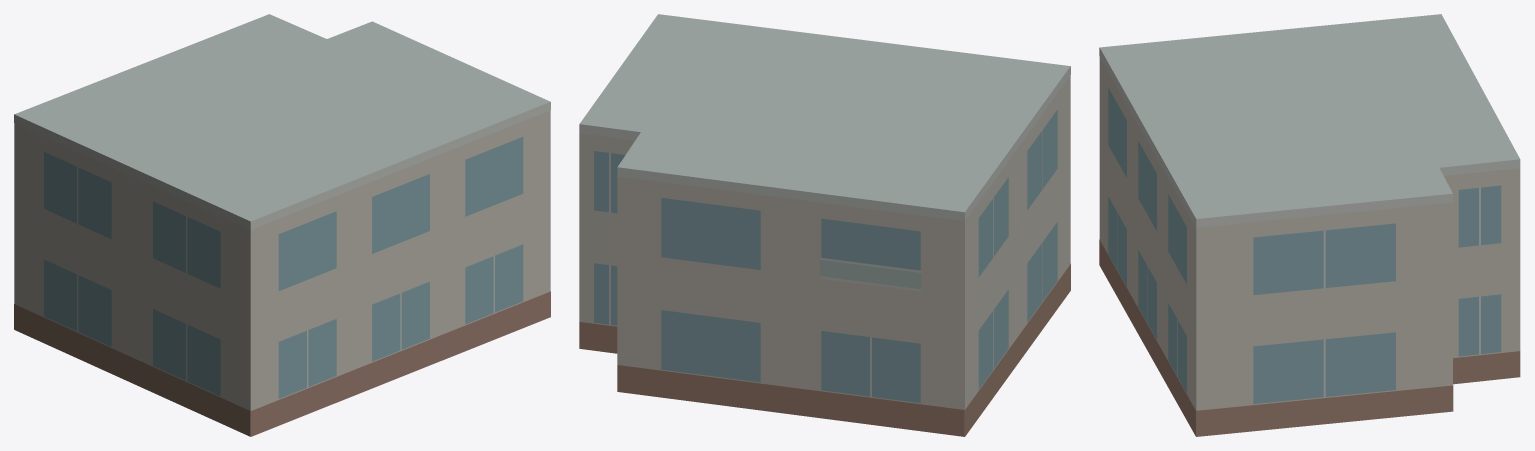
File: survey-upis-32509872.glb
3 views of the same model, side by side, from view 1: azimuth 30°, elevation 25°; view 2: azimuth 150°, elevation 25°; view 3: azimuth 270°, elevation 25° (orthographic). The views are drawn at different scales.
Visible parts, largest first — view 1: survey-upis-32509872.tmp; view 2: survey-upis-32509872.tmp; view 3: survey-upis-32509872.tmp.
Boxes of the visible parts, <box> form: survey-upis-32509872.tmp: <box>14,14,550,436</box>; survey-upis-32509872.tmp: <box>579,14,1070,436</box>; survey-upis-32509872.tmp: <box>1099,14,1520,436</box>.
Size of the model in its own units: 12.32 by 6.1 by 10.69.
